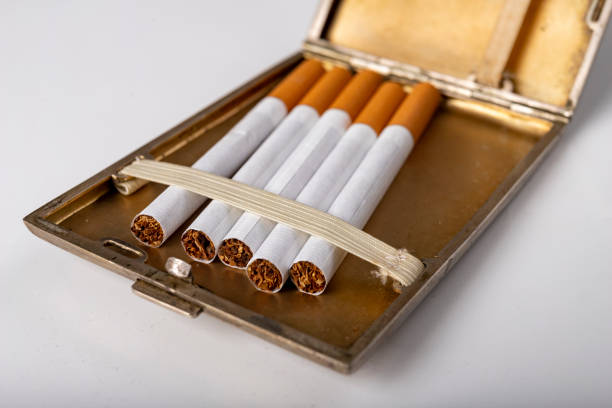cigarette: (131, 56, 325, 249), (180, 65, 351, 265), (245, 81, 404, 294), (217, 68, 382, 271)
